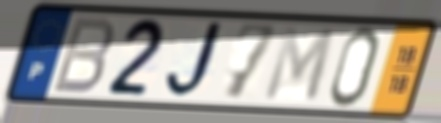0: (328, 24, 382, 112)
2: (101, 13, 172, 104)
7: (224, 20, 279, 104)
B: (49, 15, 118, 96)
J: (163, 19, 232, 102)
M: (260, 24, 339, 106)
